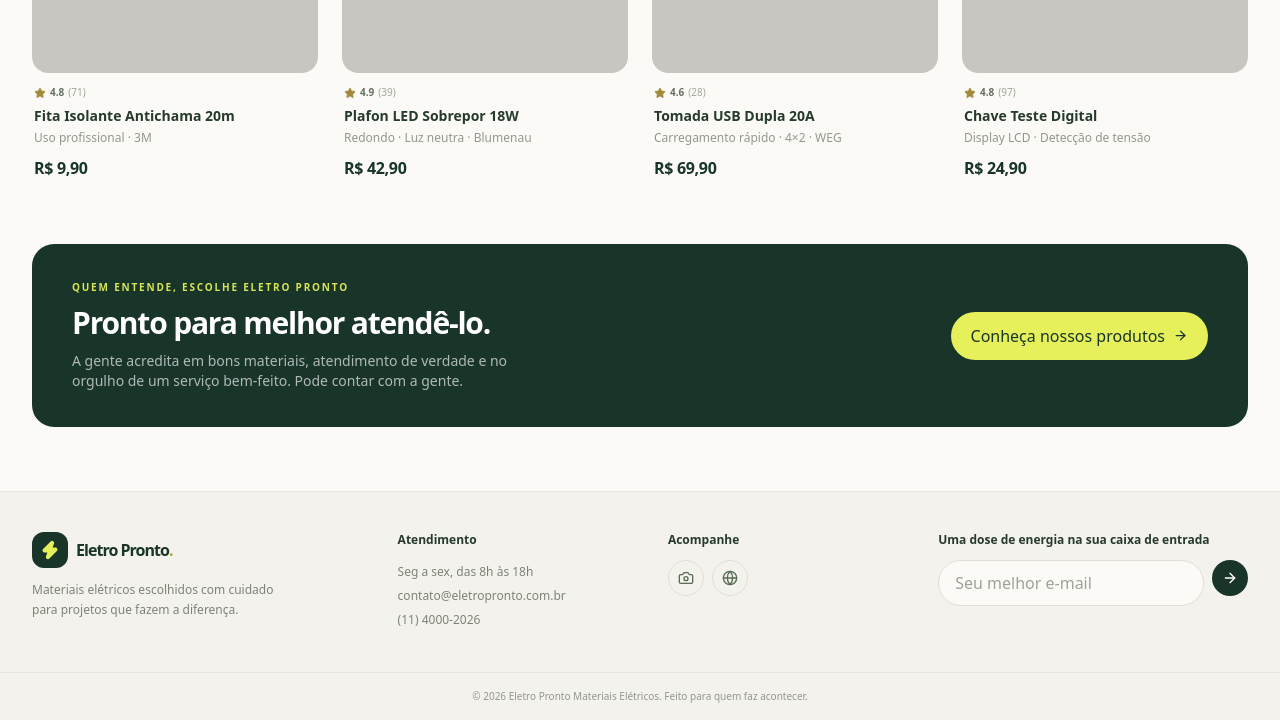
Storefront › submits the newsletter form
(page scrolled)
Step 1. Type "cliente@teste.com" into the field named "Seu e-mail" → coordinates (1071, 583), box [938,560,1204,606]
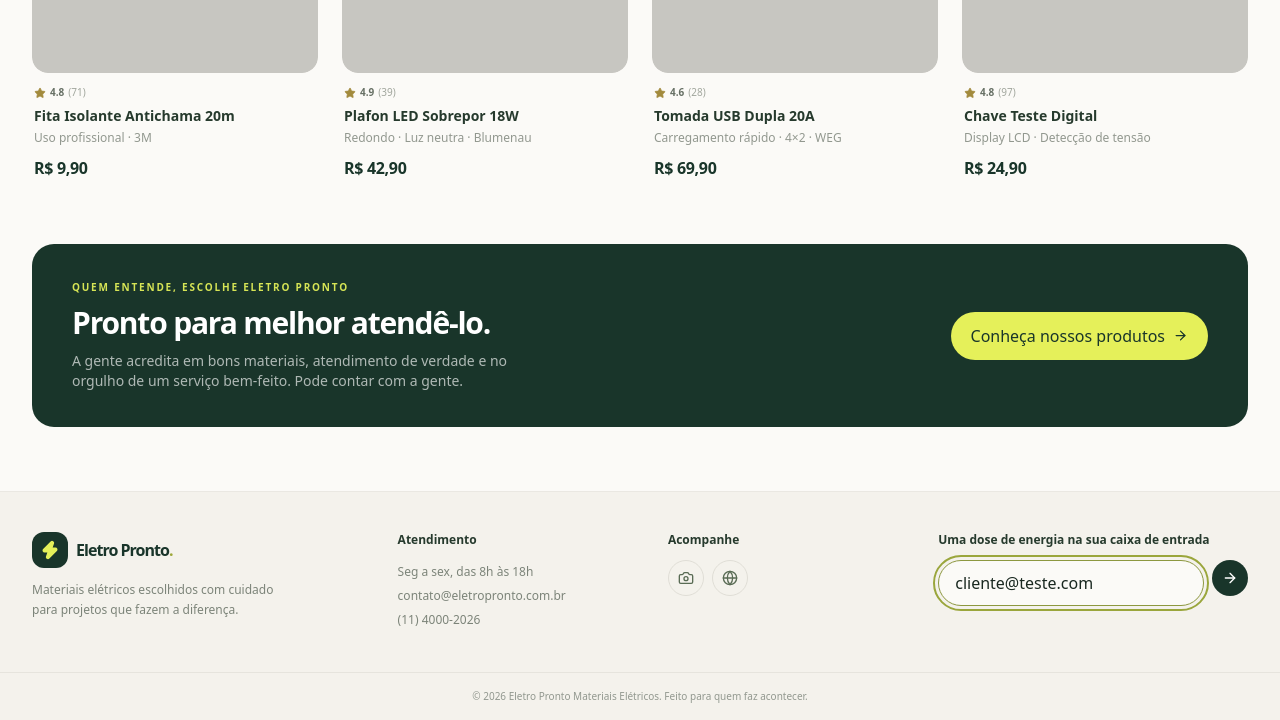
Step 2. Click the button named "inscrever-se na newsletter" → coordinates (1230, 578), box [1212,560,1248,596]
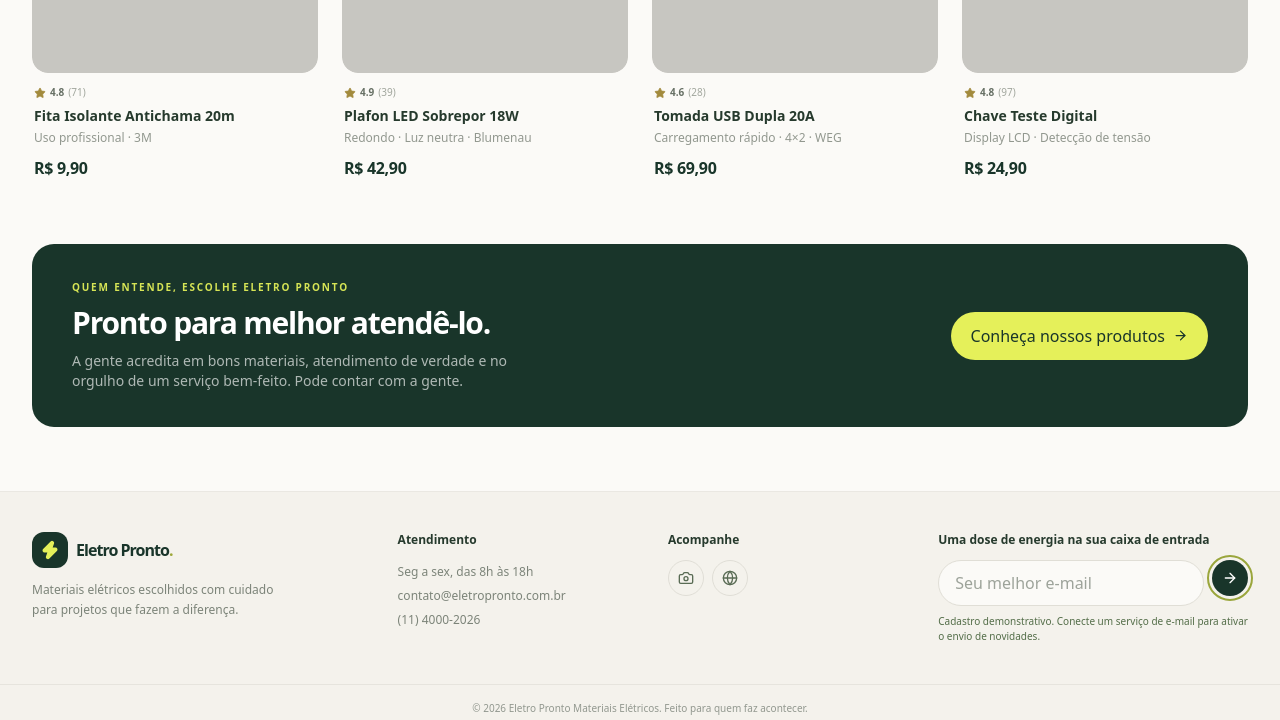
Expected: the text "Cadastro demonstrativo. Conecte um serviço de e-mail para ativar o envio de novidades." is shown, [938,614,1248,643]
